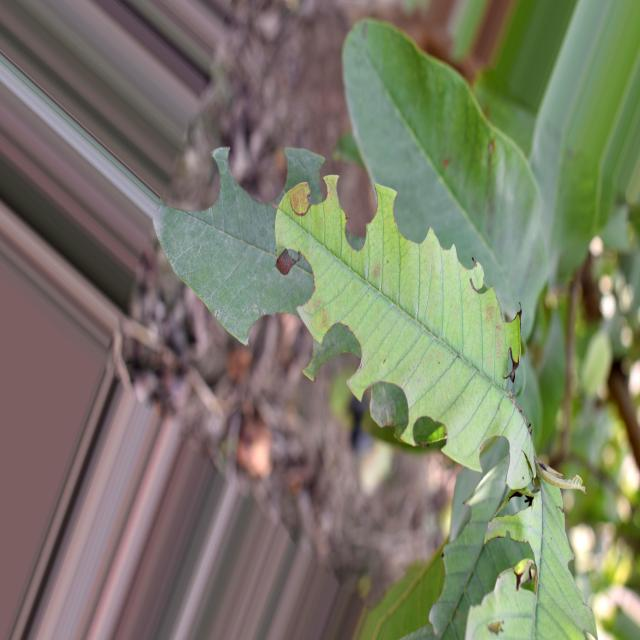Canker: (275, 176, 536, 489), (465, 478, 596, 639)
